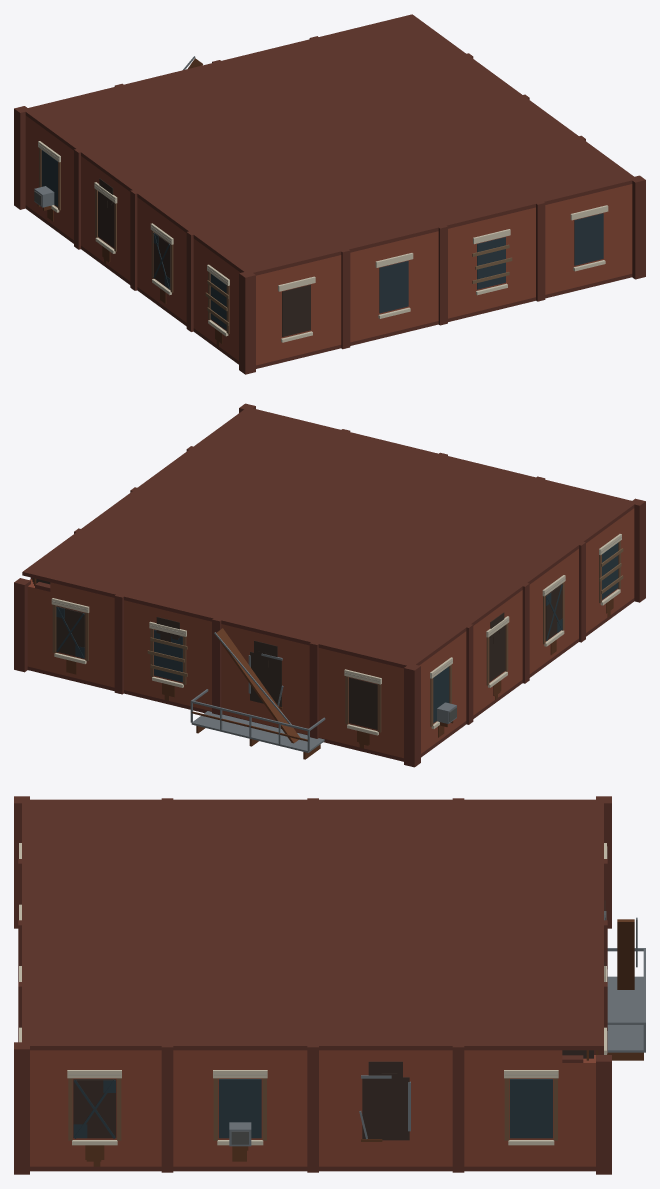
File: tw_brick_16_floor_c.glb
The picture shows the model from 3 angles, top to bottom: view 1: azimuth 30°, elevation 25°; view 2: azimuth 150°, elevation 25°; view 3: azimuth 270°, elevation 25°; orthographic projection. The views are drawn at different scales.
Visible parts, largest first — view 1: tw_brick_16_floor_c; view 2: tw_brick_16_floor_c; view 3: tw_brick_16_floor_c.
Boxes of the visible parts, x1,y1,x2,y2 form: tw_brick_16_floor_c: [14, 14, 645, 374]; tw_brick_16_floor_c: [14, 403, 645, 767]; tw_brick_16_floor_c: [14, 796, 645, 1174].
Size of what is drawn, in the model's own units: 17.06 by 4.07 by 17.37.
2 materials, 2 textured.
